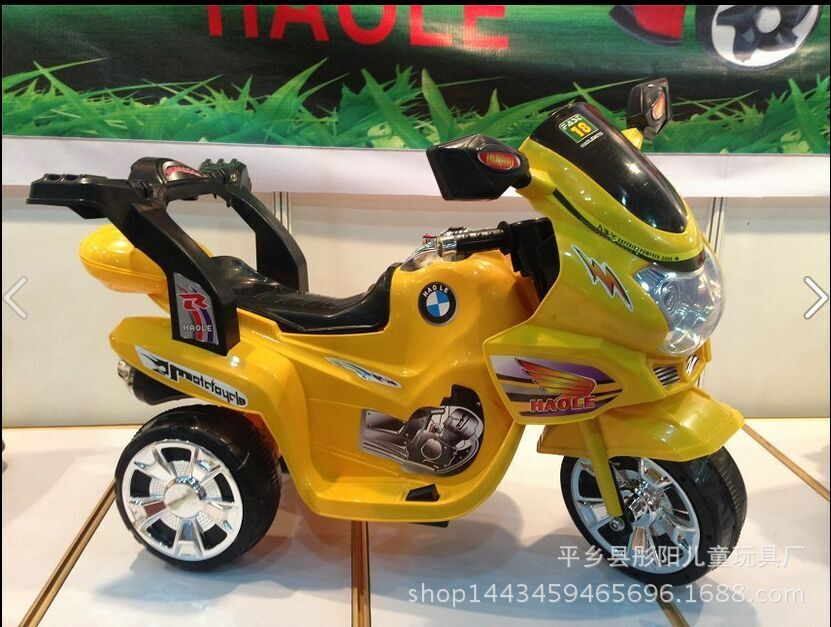电动车: (2, 63, 768, 612)
